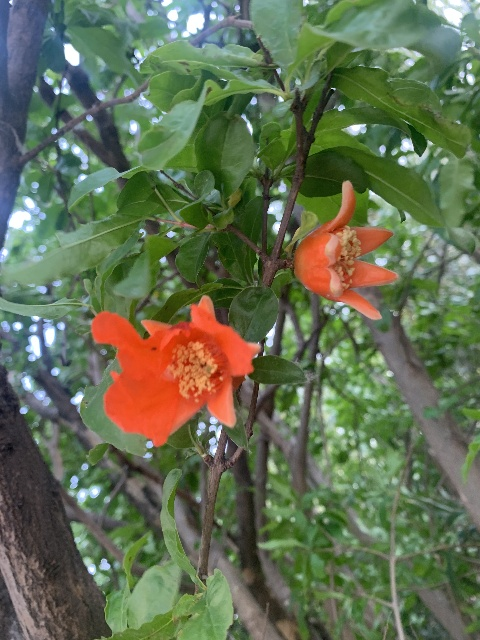flower: (91, 294, 260, 446), (293, 180, 399, 322)
